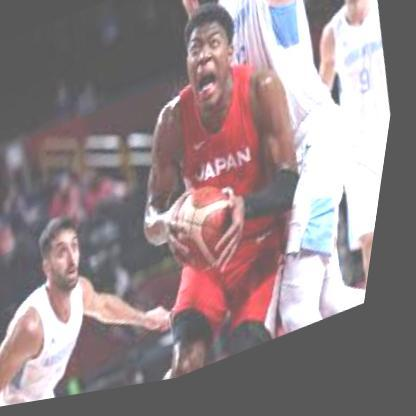basketball: (165, 183, 258, 294)
